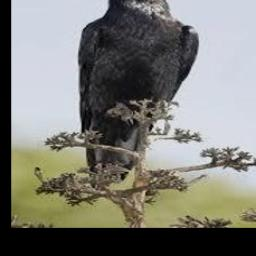Crow: (77, 0, 198, 191)
